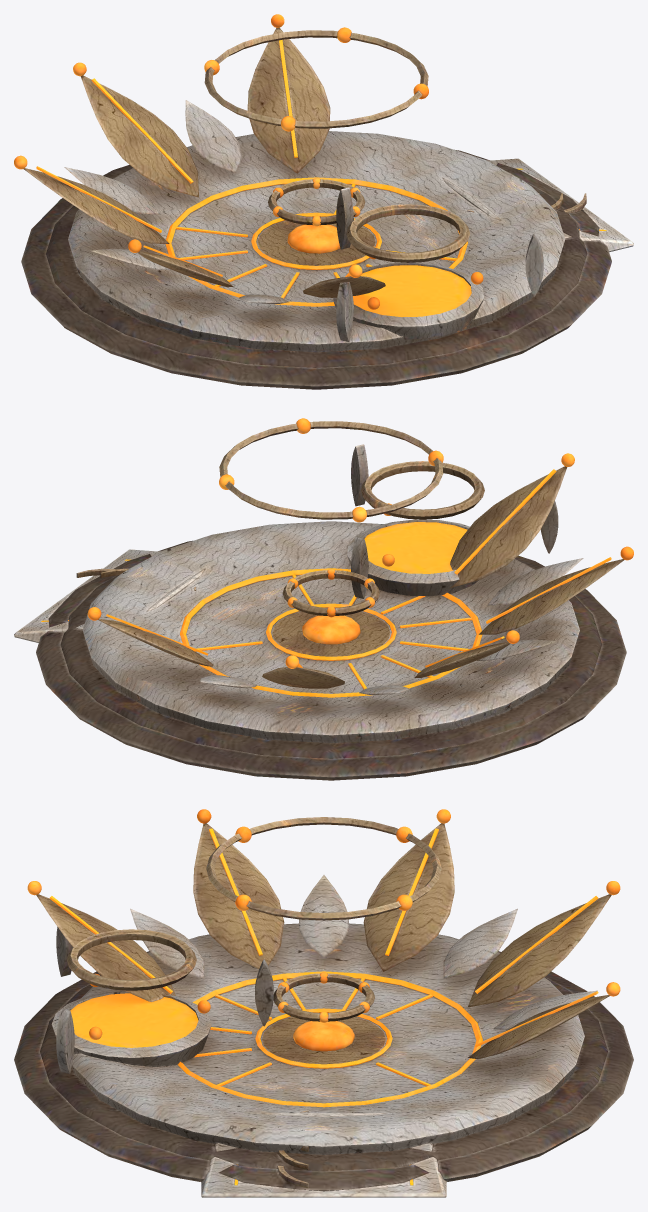
The model's file is kesh_landing_nest.glb.
3 renders of one model, top to bottom at view 1: azimuth 30°, elevation 25°; view 2: azimuth 150°, elevation 25°; view 3: azimuth 270°, elevation 25°, orthographic. The views are drawn at different scales.
Parts seen in each view (by area): view 1: Hull, Halo, Crown; view 2: Hull, Halo, Crown; view 3: Hull, Halo, Crown.
Boxes of the visible parts, x1=… form: Hull: x1=14, y1=14, x2=633, y2=389; Halo: x1=204, y1=27, x2=428, y2=131; Crown: x1=268, y1=178, x2=365, y2=226; Hull: x1=14, y1=444, x2=633, y2=780; Halo: x1=219, y1=418, x2=443, y2=522; Crown: x1=282, y1=569, x2=379, y2=617; Hull: x1=14, y1=809, x2=633, y2=1197; Halo: x1=206, y1=817, x2=441, y2=920; Crown: x1=273, y1=972, x2=374, y2=1022.
Bounding box in the file's own units: 12.15 × 4.36 × 12.
1 material, 1 textured.
